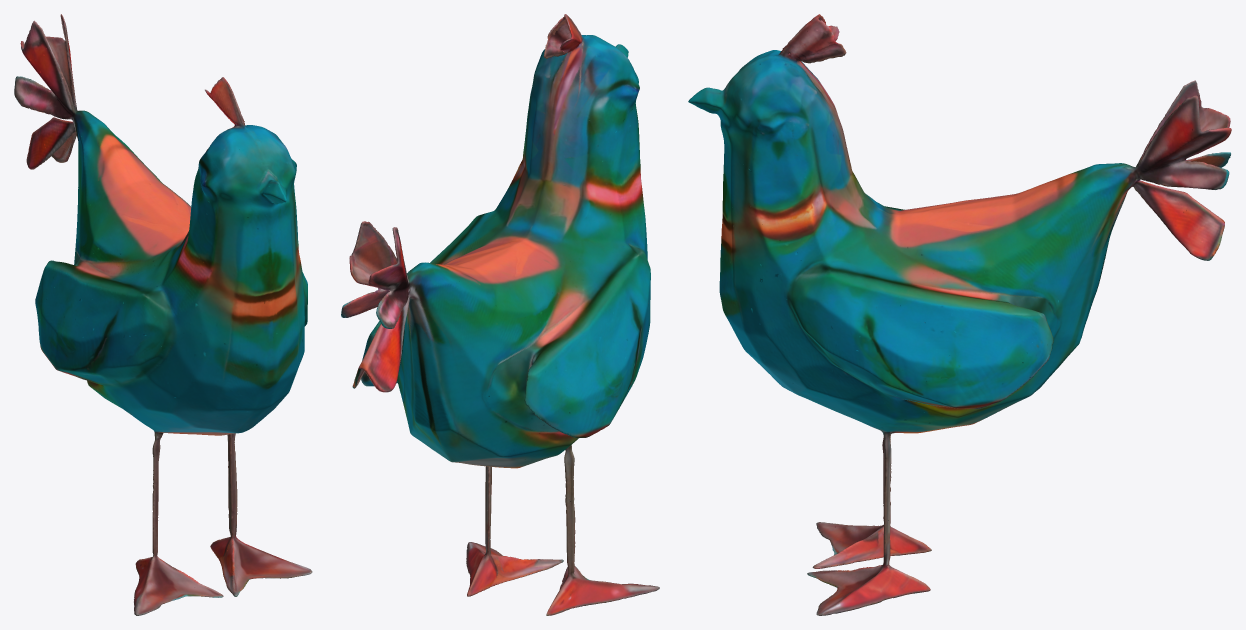
File: bon-little.glb
3 views of the same model, side by side, from view 1: azimuth 30°, elevation 25°; view 2: azimuth 150°, elevation 25°; view 3: azimuth 270°, elevation 25° (orthographic). The views are drawn at different scales.
Visible parts, largest first — view 1: Mesh_0; view 2: Mesh_0; view 3: Mesh_0.
Part boxes in pixels (x1=…): Mesh_0: x1=14, y1=14, x2=312, y2=615; Mesh_0: x1=341, y1=14, x2=659, y2=615; Mesh_0: x1=688, y1=14, x2=1231, y2=615.
Size of the model in its own units: 0.865 by 2.01 by 1.77.
1 material, 1 textured.
